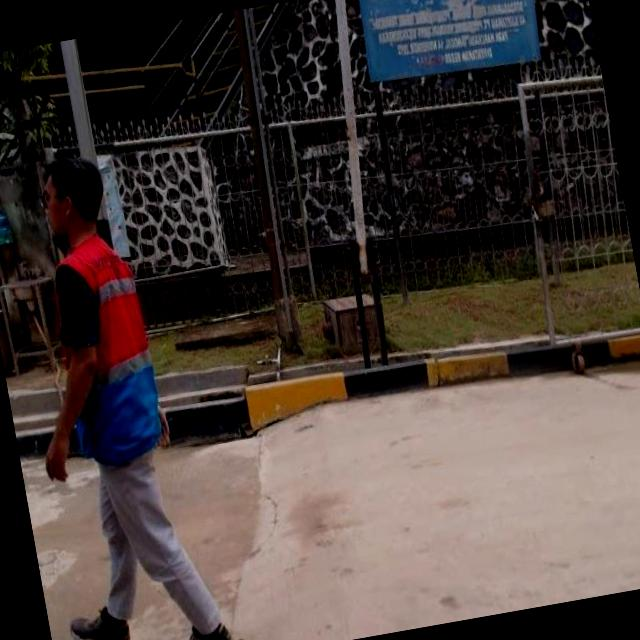vest: (38, 228, 169, 471)
